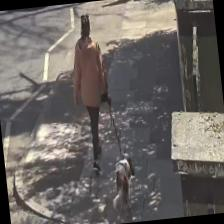person: (66, 13, 116, 174)
